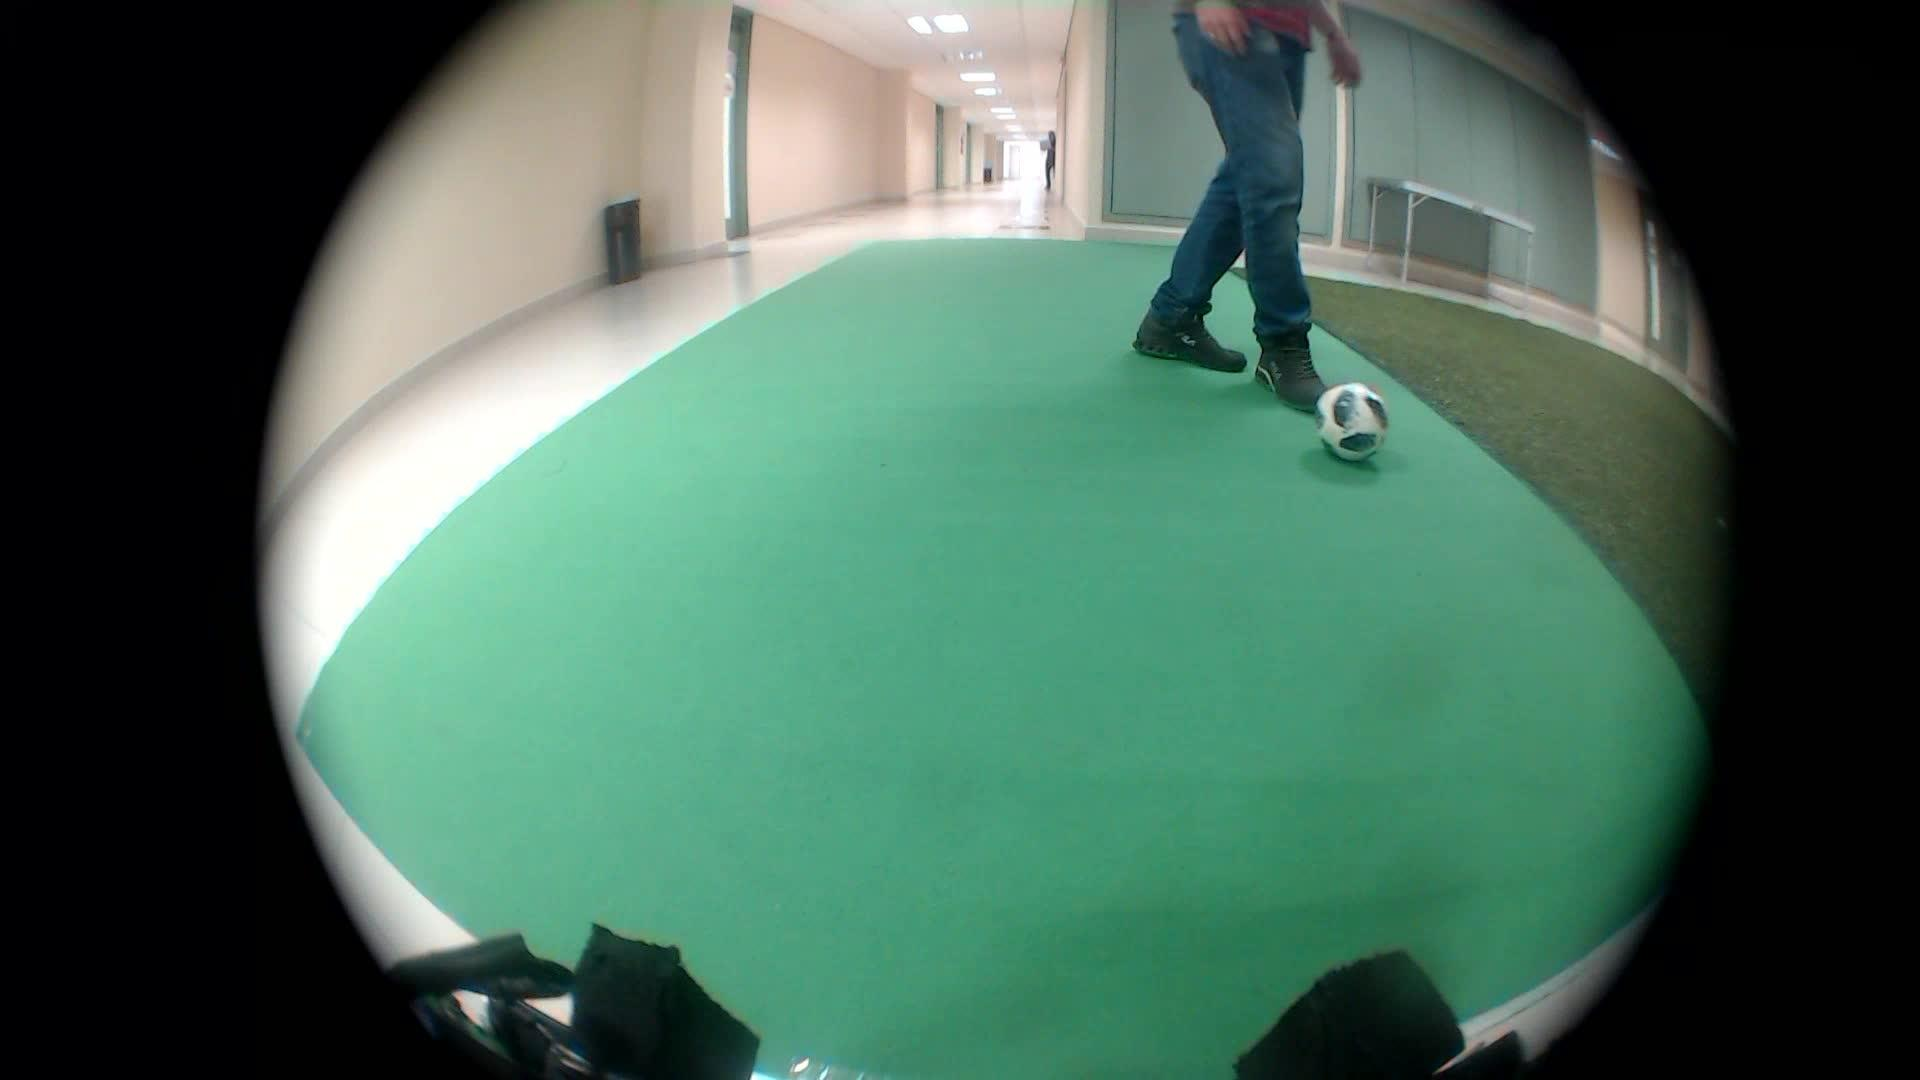ball: (1305, 375, 1396, 473)
